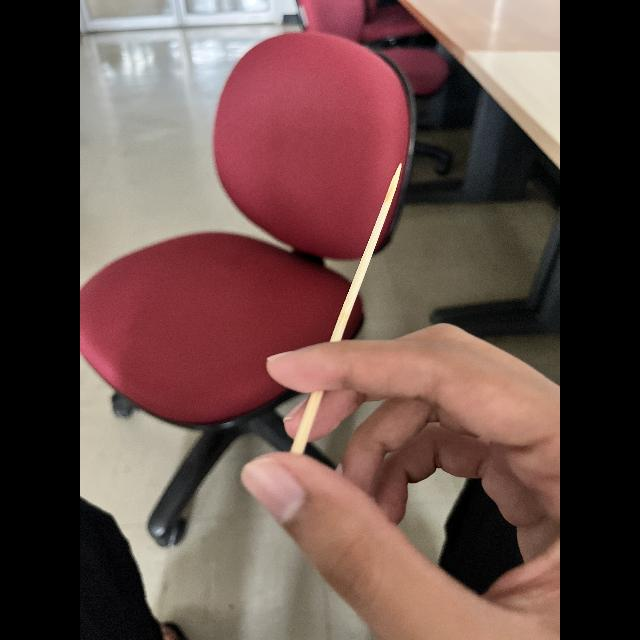stick: (282, 158, 406, 454)
